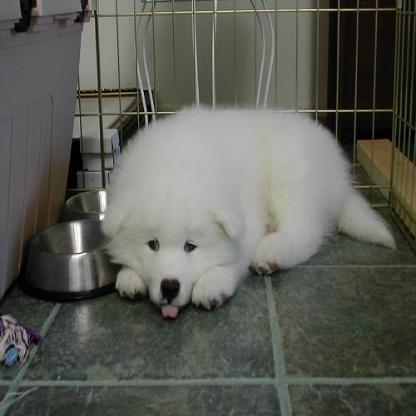Samoyed: (101, 104, 396, 321)
